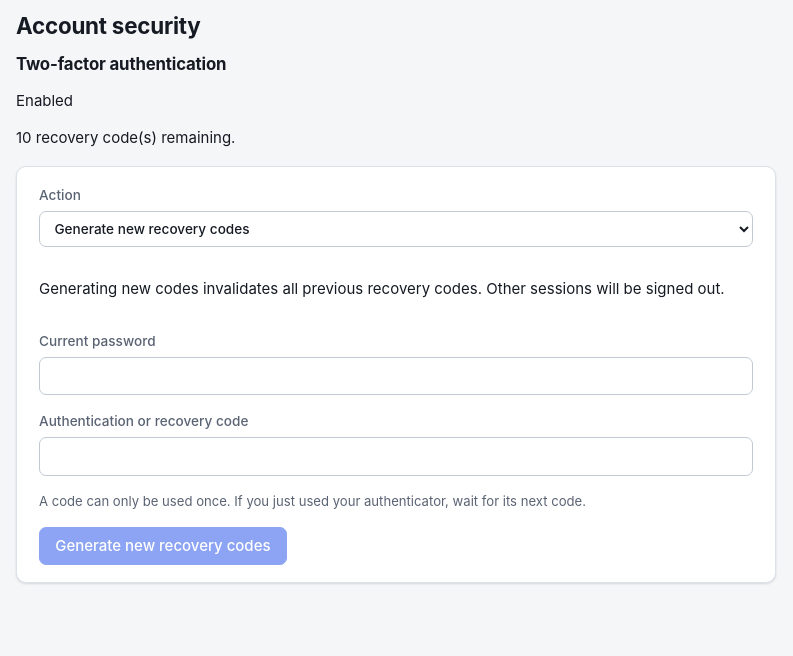
Test: Security › disables only after a successful server response
The width and height of the screenshot is (793, 656).
Select "Disable two-factor authentication" in the dropdown labelled "Action" at (396, 228), box [39, 210, 753, 246]
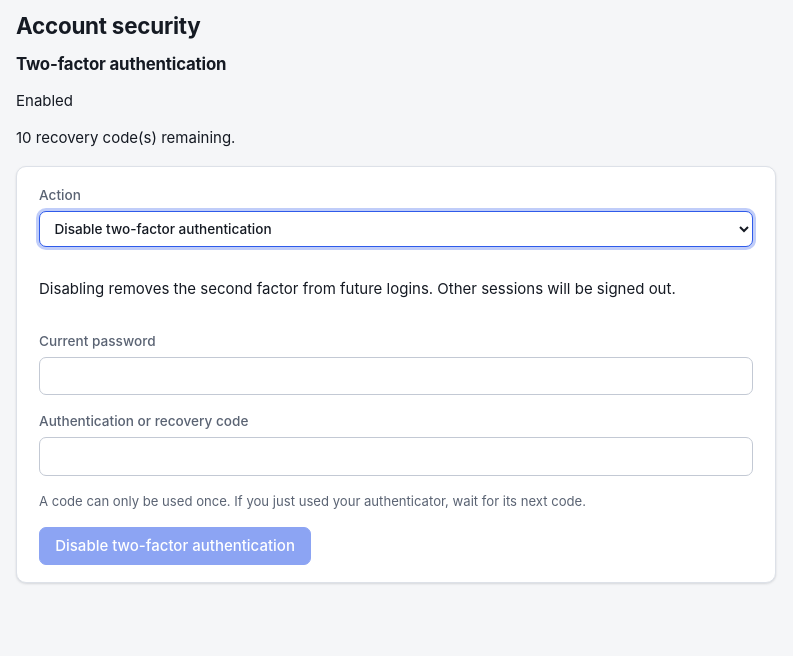
Type "my current password" into the password field labelled "Current password" at (396, 376), box [39, 357, 753, 395]
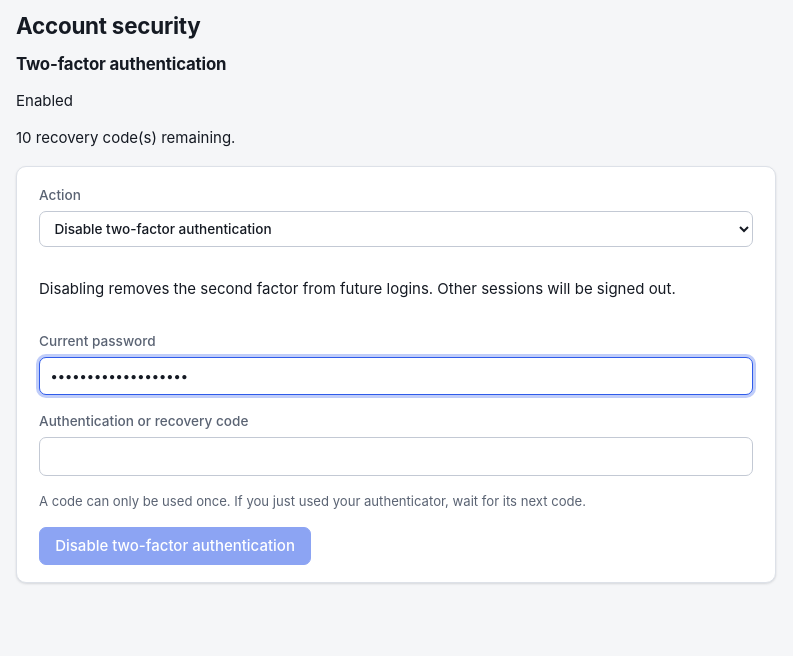
Type "123456" into the field labelled "Authentication or recovery code" at (396, 457), box [39, 437, 753, 476]
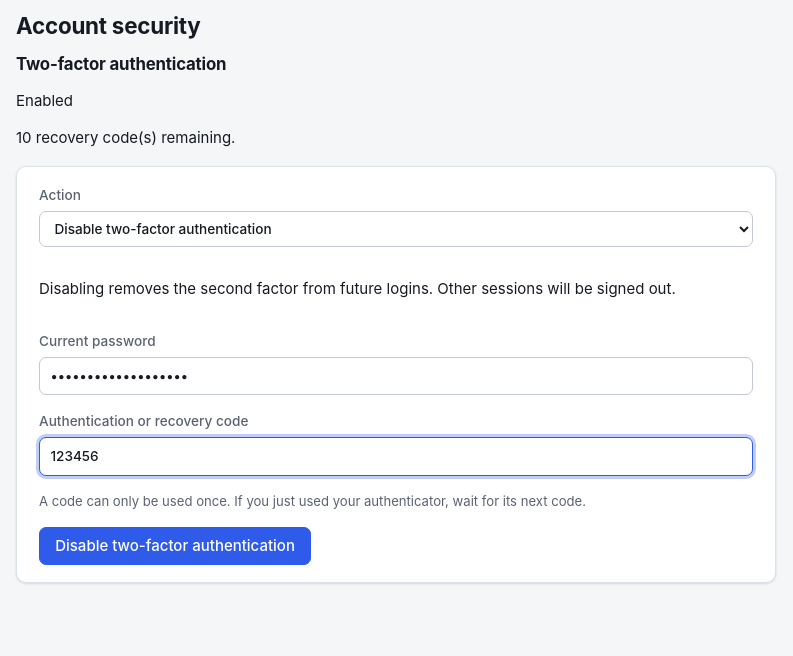
Click the button "Disable two-factor authentication" at (175, 546), box [39, 527, 311, 565]
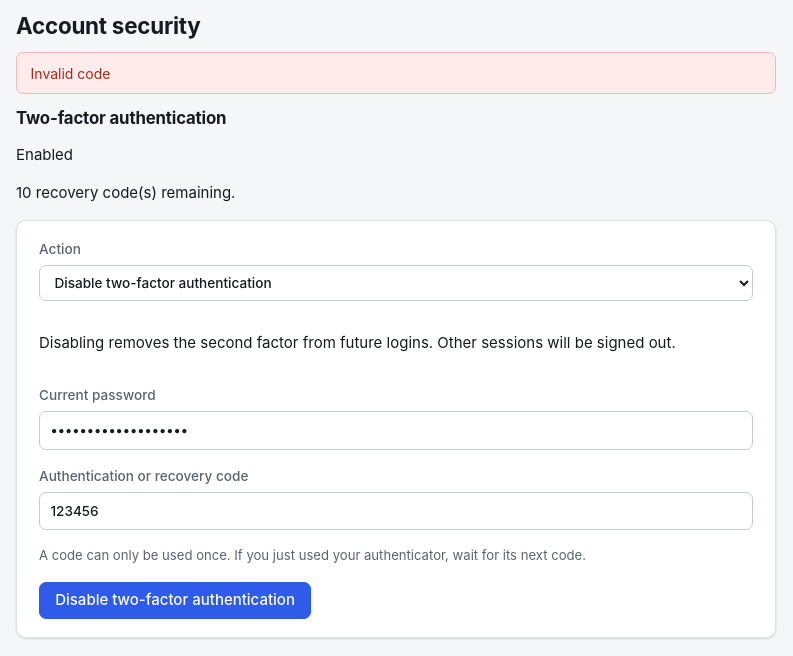
Expected: the text "Enabled" is shown, [16, 145, 73, 164]
Result: the message reads "Invalid code" at [31, 65, 110, 82]
Click the button "Disable two-factor authentication" at (175, 600), box [39, 582, 311, 619]
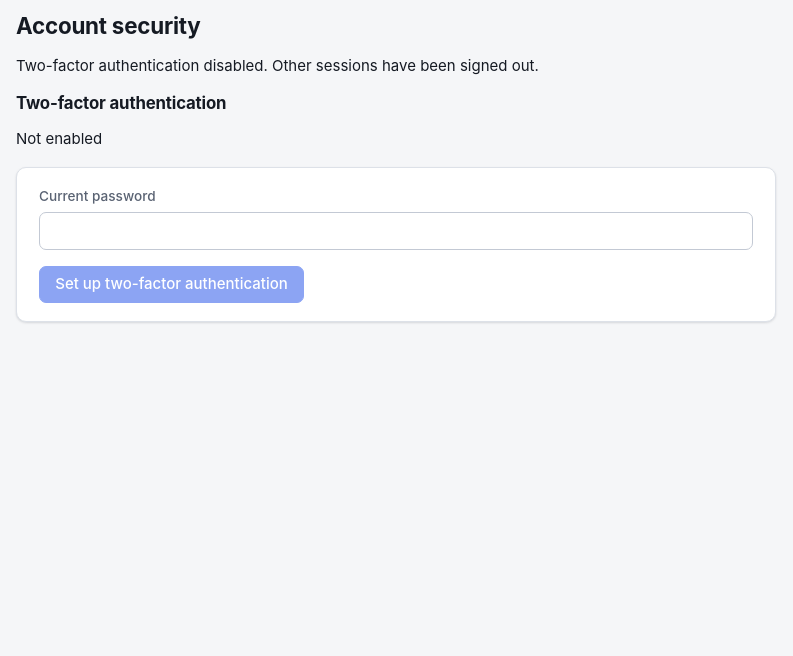
Result: the text "Not enabled" is shown at [16, 130, 102, 148]
